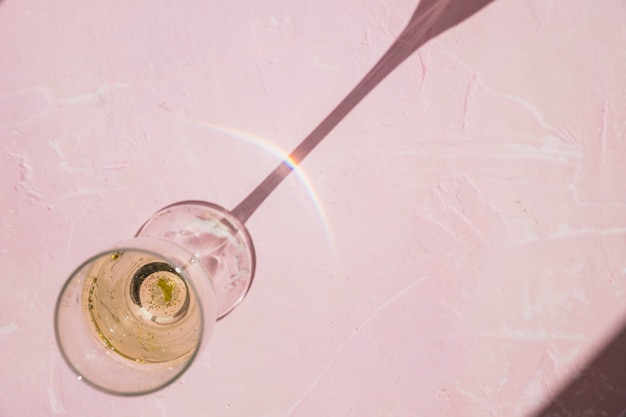alcohol: (49, 198, 256, 399)
